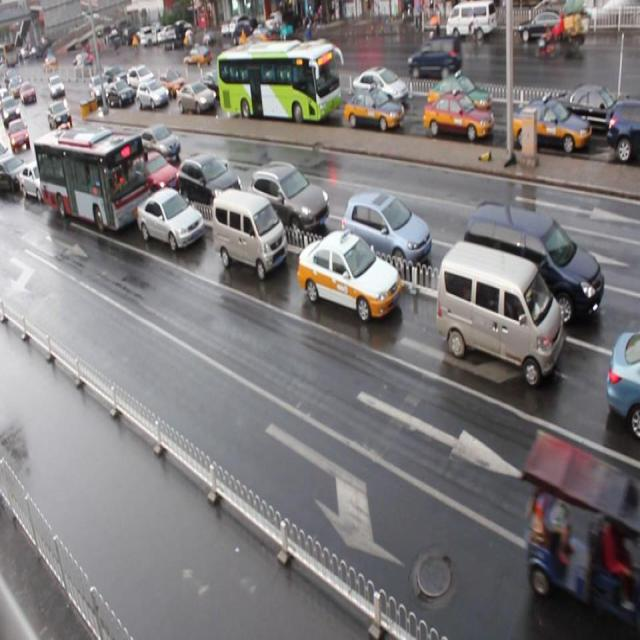BigCar: (28, 128, 145, 245), (218, 45, 340, 129)
car: (425, 229, 572, 410), (468, 200, 613, 320), (301, 230, 415, 339), (210, 182, 298, 310), (348, 188, 439, 272), (254, 160, 337, 238), (507, 92, 596, 162), (138, 188, 198, 258), (420, 88, 494, 143), (608, 325, 640, 449), (174, 148, 246, 197), (343, 88, 405, 138), (408, 33, 467, 83), (518, 4, 578, 48), (179, 75, 228, 123), (450, 0, 498, 49), (613, 95, 640, 168), (137, 80, 173, 112)
